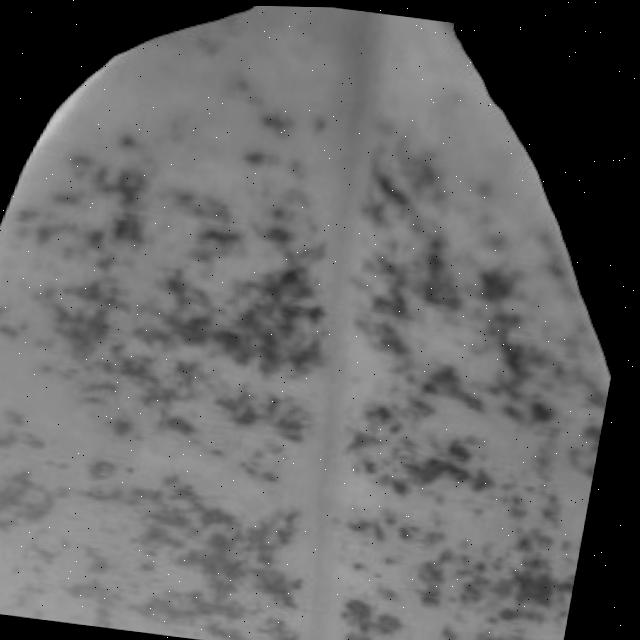mite: (256, 104, 296, 134)
spots: (0, 1, 638, 640)
